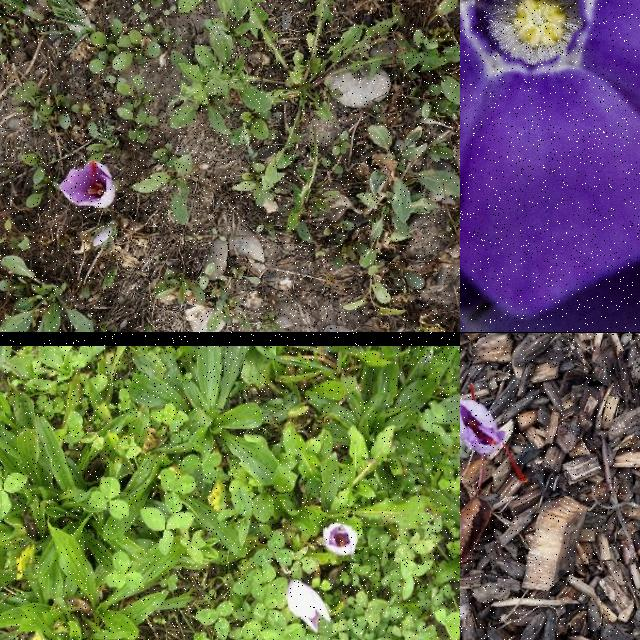flower: (460, 386, 526, 482), (60, 159, 116, 209), (287, 574, 331, 634), (324, 523, 358, 555)
